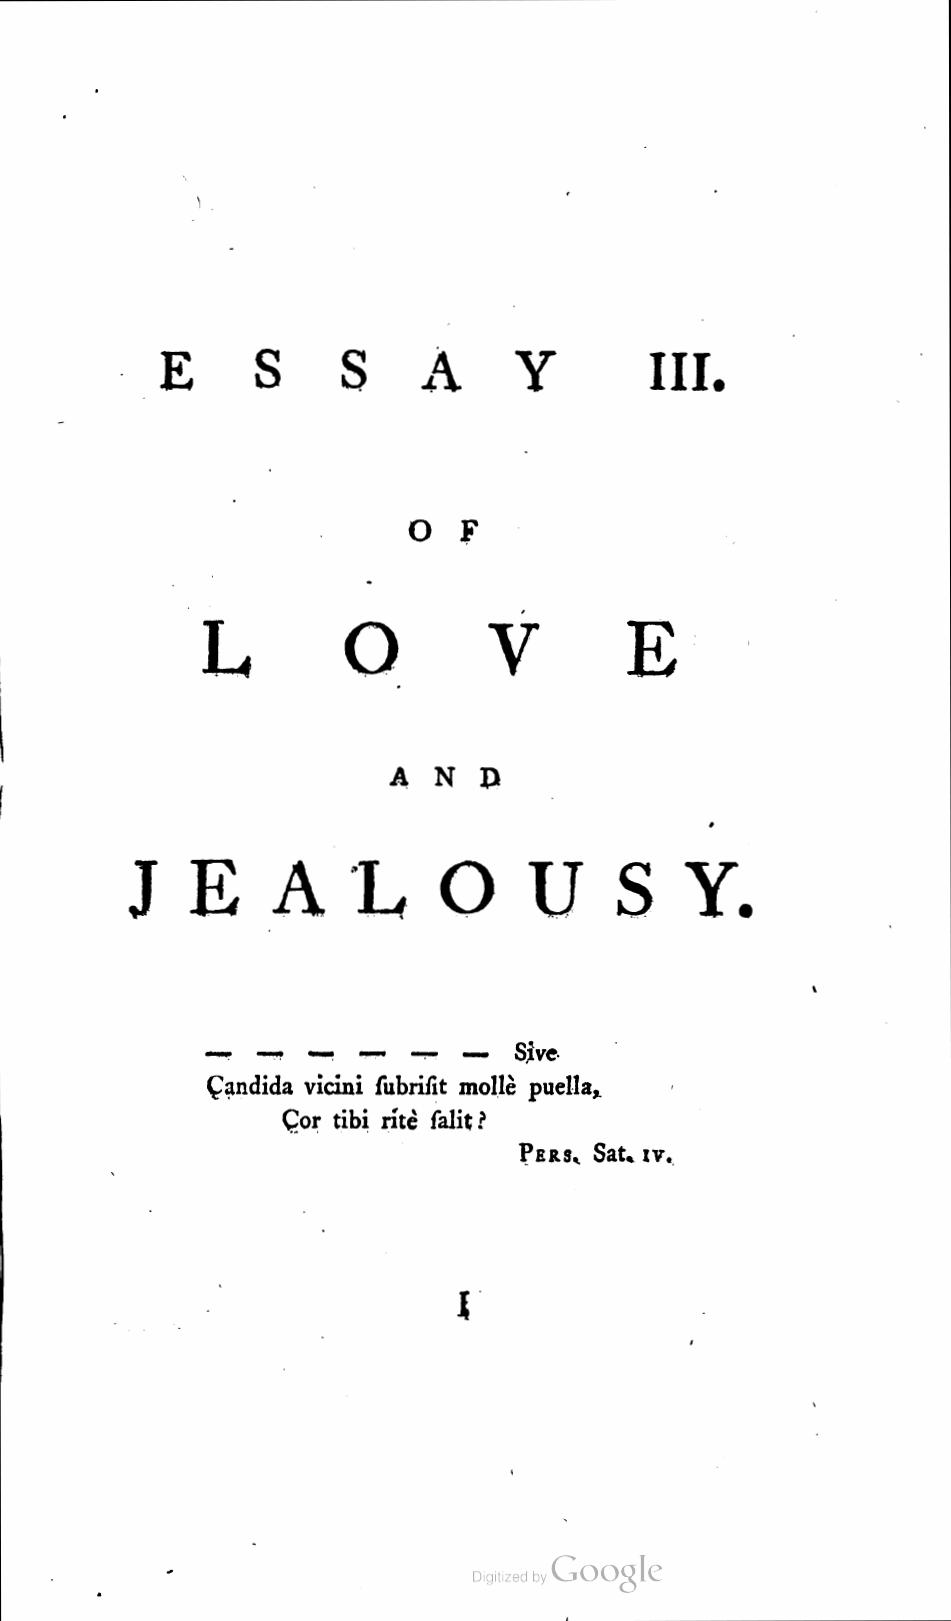title_page: (105, 317, 798, 1345)
